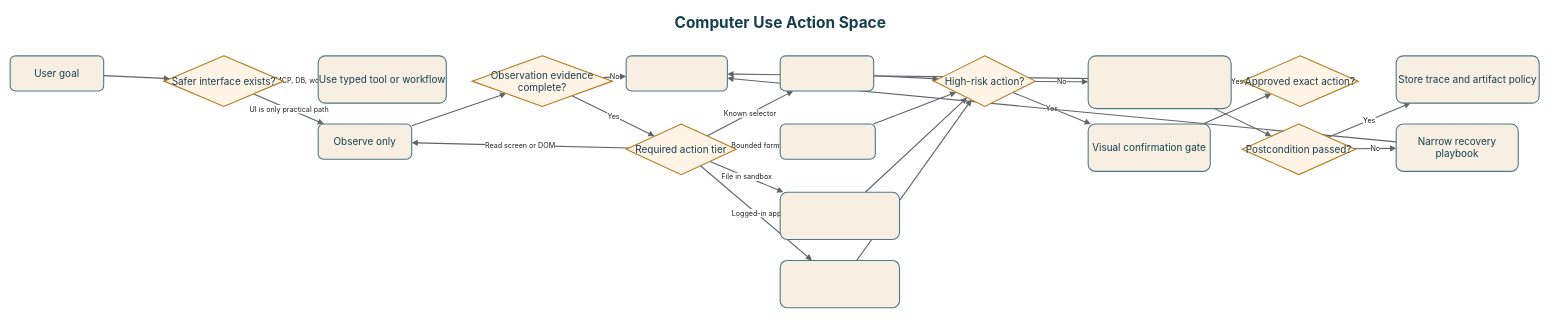
Some shapes in this 1549 by 317 pixel diagram are drawn without their labels. Here are the shapes that lost their labels. From the top down, the centre of each, then its label:
At pixel 676 73: "Stop or ask human".
At pixel 826 73: "Guided action".
At pixel 1159 82: "Validate precondition, execute, check postcondition".
At pixel 827 141: "Form completion".
At pixel 839 215: "Sandboxed file workflow".
At pixel 839 284: "Authenticated operation".
